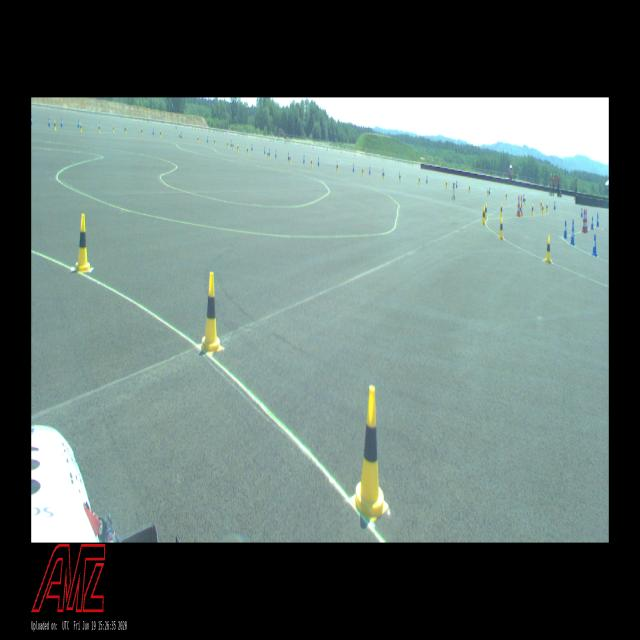blue_cone: (592, 234, 598, 256), (570, 225, 575, 245), (563, 220, 568, 238), (571, 219, 575, 237), (591, 217, 594, 230), (596, 216, 599, 227), (596, 213, 599, 222), (31, 116, 33, 125), (61, 119, 63, 128), (580, 208, 582, 217), (522, 194, 524, 202), (554, 201, 556, 209), (78, 120, 80, 127), (49, 118, 50, 126)
large_orange_cone: (582, 210, 586, 232), (516, 195, 520, 216), (585, 210, 588, 232), (520, 196, 522, 217)
yellow_cone: (351, 386, 389, 522), (199, 272, 223, 353), (74, 214, 90, 274), (545, 235, 553, 264), (498, 217, 504, 240), (499, 202, 504, 218), (482, 206, 486, 225), (531, 203, 534, 216), (485, 202, 487, 218), (520, 203, 522, 216), (546, 202, 548, 213), (542, 203, 544, 214), (54, 120, 56, 130), (540, 200, 542, 210), (80, 123, 82, 132), (98, 124, 100, 133), (289, 154, 291, 163), (310, 158, 312, 167), (336, 162, 338, 171), (362, 167, 364, 176), (382, 170, 384, 179), (399, 173, 401, 182), (418, 176, 420, 185), (524, 196, 526, 205), (125, 125, 127, 134), (112, 124, 114, 133), (505, 192, 507, 200)
